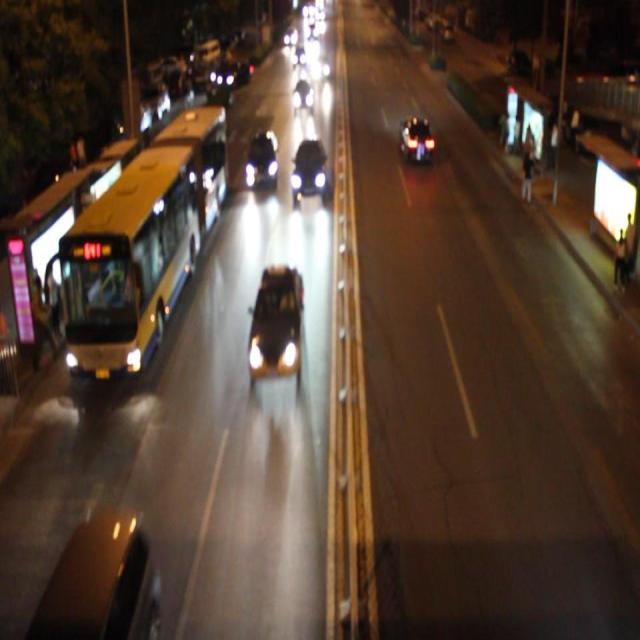car: (247, 265, 303, 379), (291, 137, 326, 198), (245, 129, 278, 189), (399, 114, 433, 162), (293, 78, 314, 110), (314, 55, 331, 80)
truck: (35, 506, 159, 640)
van: (54, 102, 219, 376)
